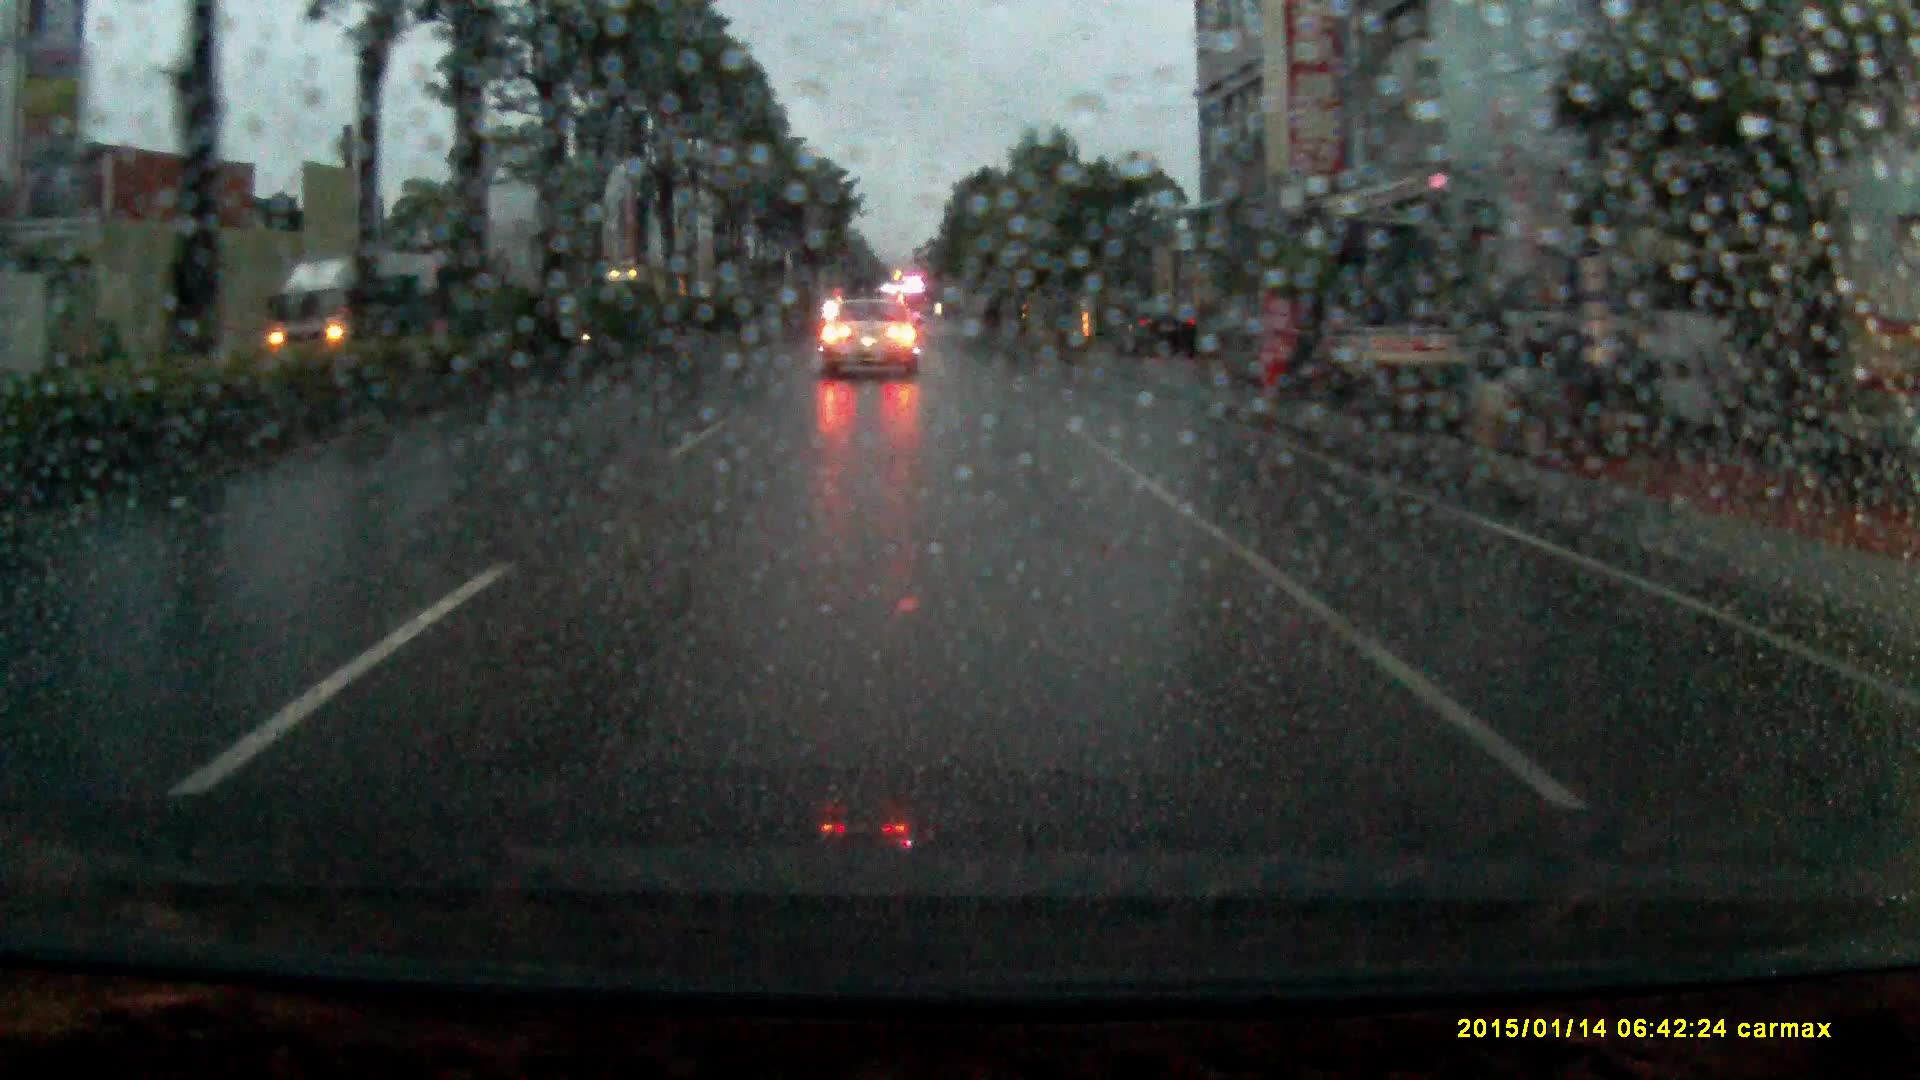vehicle: (265, 245, 440, 345), (822, 291, 922, 378), (1114, 294, 1201, 353)
